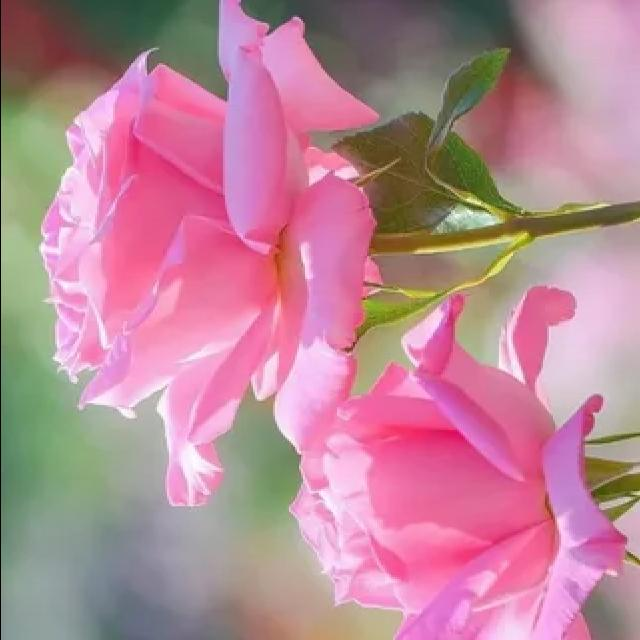rose: (22, 0, 398, 508)
